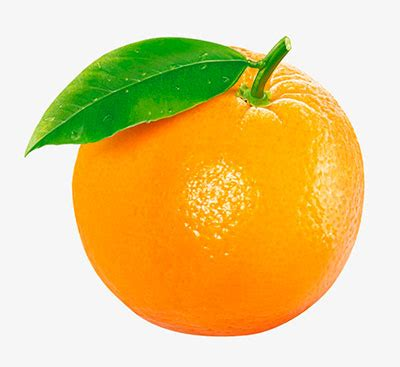orange: (59, 44, 367, 334)
